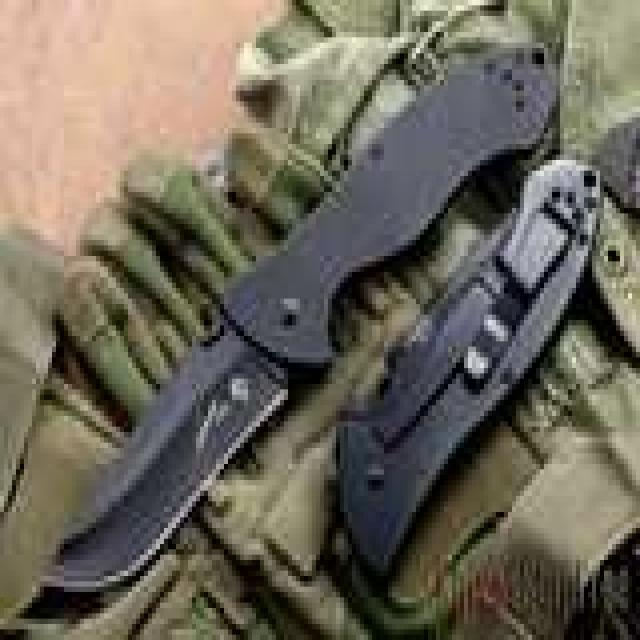Knife: (37, 40, 560, 590)
